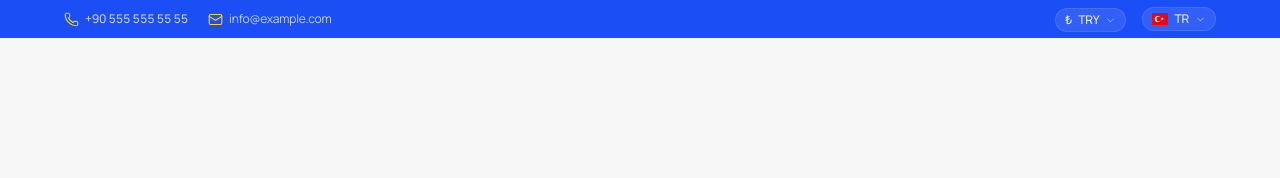
Test: TopBar — Phase 10C dil değiştirici › 17) dil değiştirici butonuna tıklayınca dropdown açılır, tekrar tıklayınca kapanır
Click the button with aria-label "Dil": (1179, 19) [1142,7,1216,31]
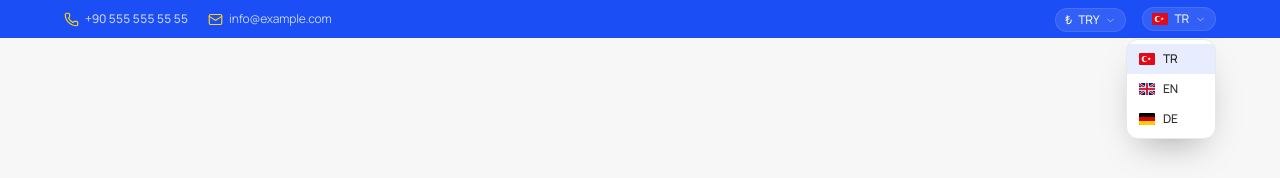
expect the list named "Dil" is shown: met, box [1126,39,1216,139]
Click the button with aria-label "Dil": (1179, 19) [1142,7,1216,31]
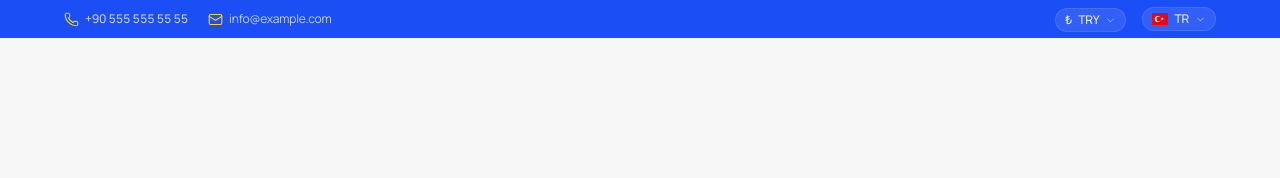
expect the list "TR EN DE" is gone: met
